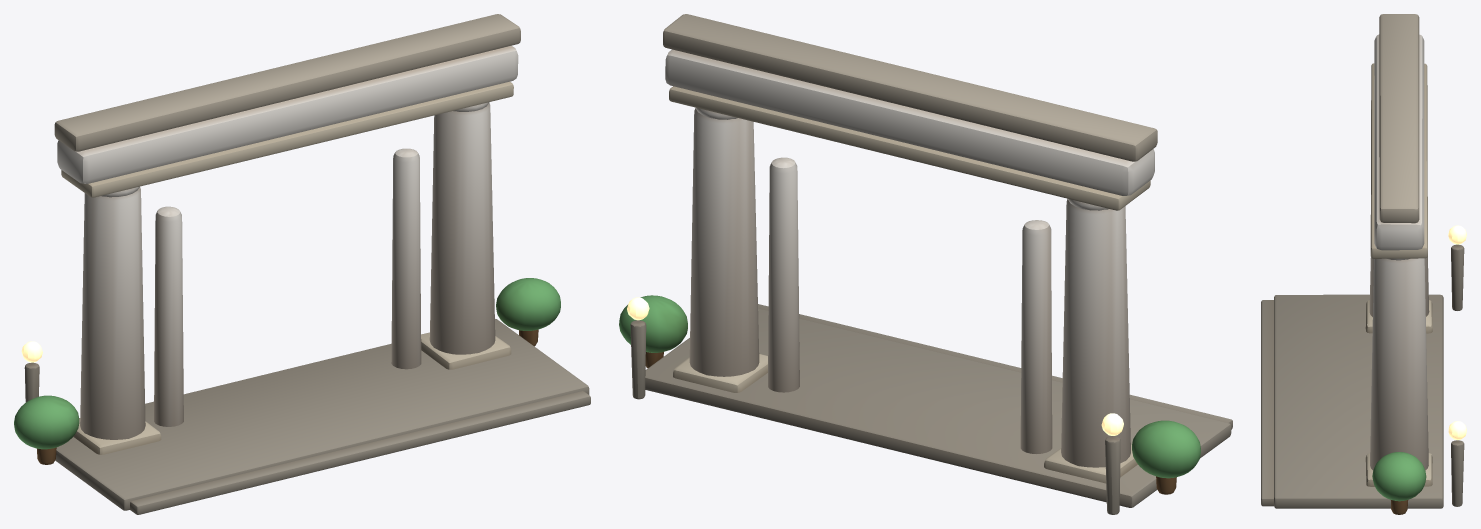
3 renders of one model, left to right at view 1: azimuth 30°, elevation 25°; view 2: azimuth 150°, elevation 25°; view 3: azimuth 270°, elevation 25°, orthographic. The views are drawn at different scales.
Parts seen in each view (by area): view 1: gate_3a7f47d9; view 2: gate_3a7f47d9; view 3: gate_3a7f47d9.
Boxes of the visible parts, x1=… form: gate_3a7f47d9: x1=14, y1=14, x2=590, y2=514; gate_3a7f47d9: x1=619, y1=14, x2=1232, y2=514; gate_3a7f47d9: x1=1261, y1=14, x2=1466, y2=514.
Bounding box in the file's own units: 6.94 × 4.07 × 2.55.
